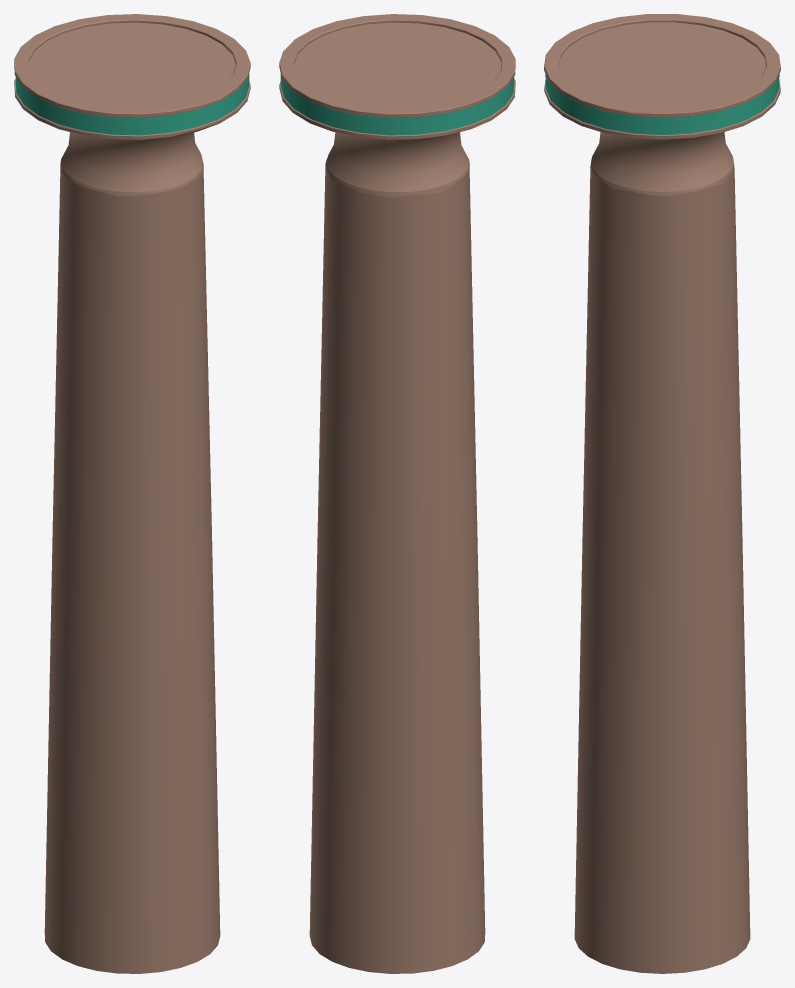
Rendered from FBX_Spire_Platform.fbx.
3 views of the same model, side by side, from view 1: azimuth 30°, elevation 25°; view 2: azimuth 150°, elevation 25°; view 3: azimuth 270°, elevation 25° (orthographic).
Parts seen in each view (by area): view 1: FBX_Spire_Platform.003; view 2: FBX_Spire_Platform.003; view 3: FBX_Spire_Platform.003.
Part boxes in pixels (left/top/right/bottom): FBX_Spire_Platform.003: left=14, top=14, right=250, bottom=973; FBX_Spire_Platform.003: left=279, top=14, right=515, bottom=973; FBX_Spire_Platform.003: left=544, top=14, right=780, bottom=973.
Bounding box in the file's own units: 1432 × 5837 × 1435.
